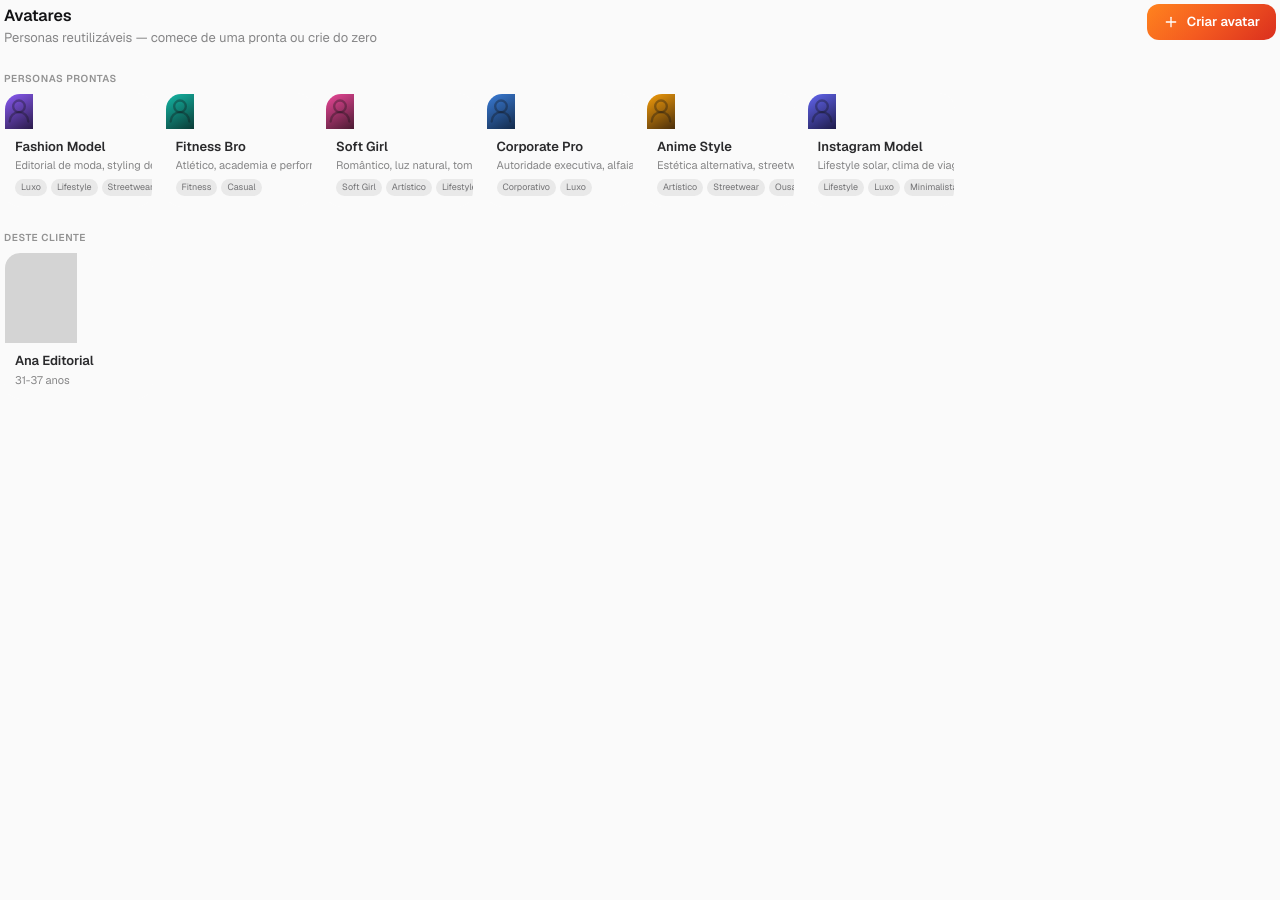
Test: AvatarStudio › clicar num avatar salvo reabre os traços guardados, não os de um preset
The image size is (1280, 900).
What coordinates should you click on to do the following:
click the button with aria-label "Personalizar Ana Editorial"
I would click on:
 (78, 326)
Its box is [4,252,152,399].
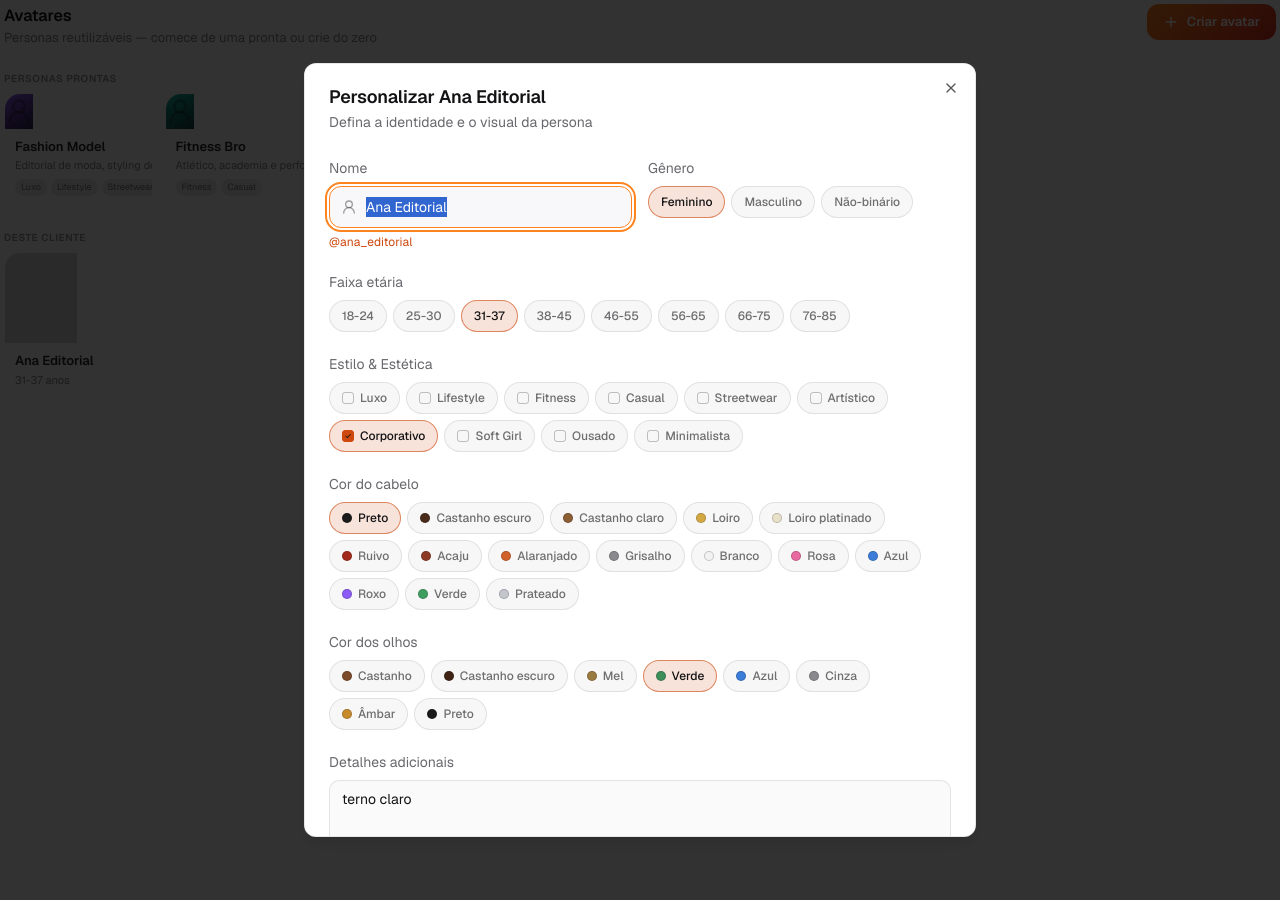
Check: the field showing "Ana Editorial" is shown, box [329,186,632,228]
Check: the text box showing "terno claro" is shown, box [329,780,951,837]
